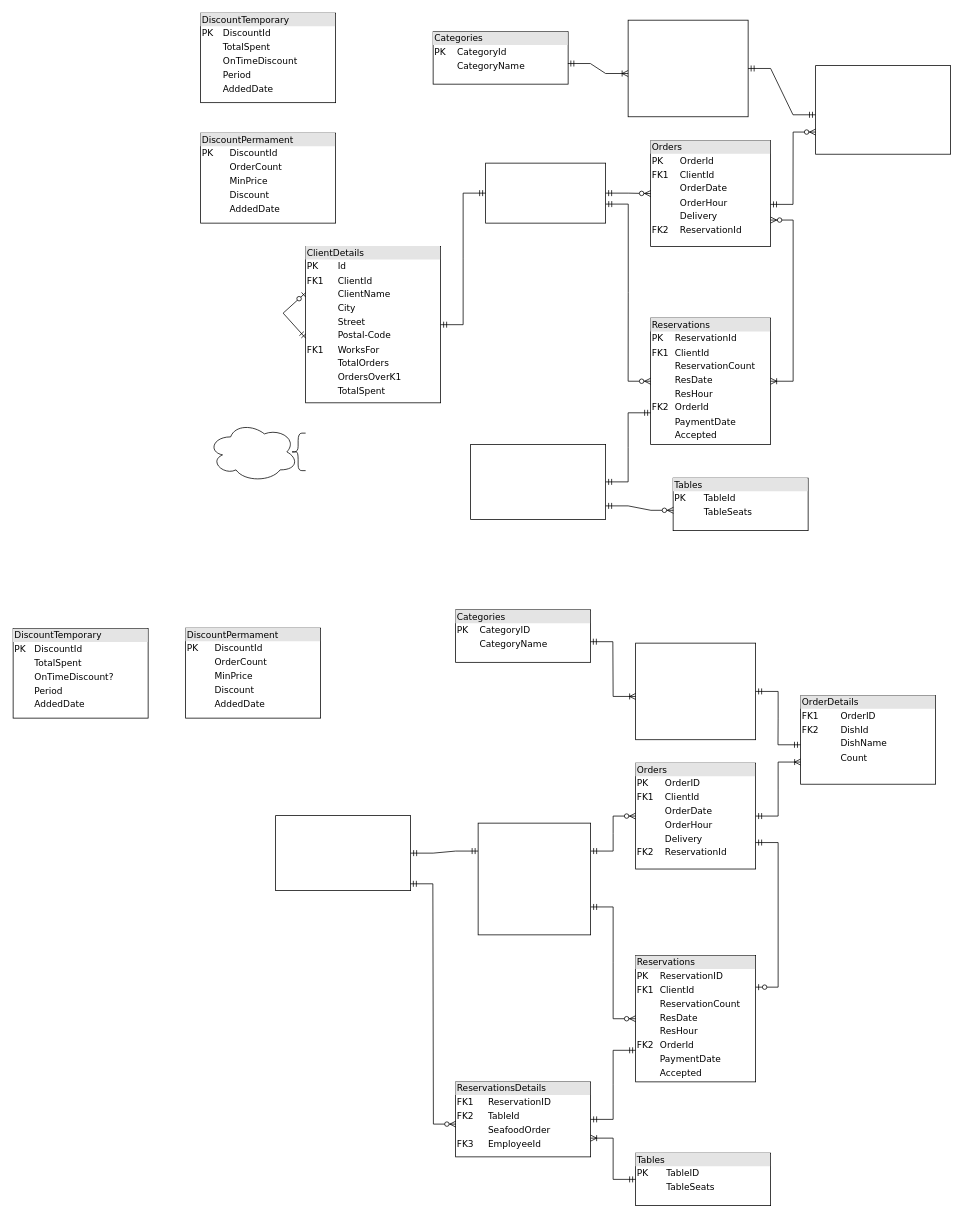
Image size: 964x1225. Some labels were removed from this diagram. The shapes that lost their labels are listed below. From the top down, each one's box as (x1, y1, x2, y2) in pixels, then its label:
(627, 19, 748, 117): MenuItems PK ItemId DishName Price FK1 CategoryId IsBeingServed LastTimeOnMenu
(815, 65, 951, 154): OrderDetails PK Id FK1 OrderId FK2 DishId DishName Count
(485, 162, 606, 223): Clients PK ClientId ClientName TypeOfClient
(207, 421, 298, 482): czy potrzebne?
(470, 444, 606, 519): ReservationsDetails PK Id FK1 ReservationId FK2 TableId SeafoodOrder
(635, 642, 756, 740): MenuItems PK ItemID DishName Price FK1 CategoryId LastTimeOnMenu
(275, 815, 411, 891): IndividualClients FK ClientID TotalOrders OrdersOverK1 TotalSpent
(477, 822, 591, 935): Clients PK ClientID ClientName TypeOfClient City Street PostalCode
